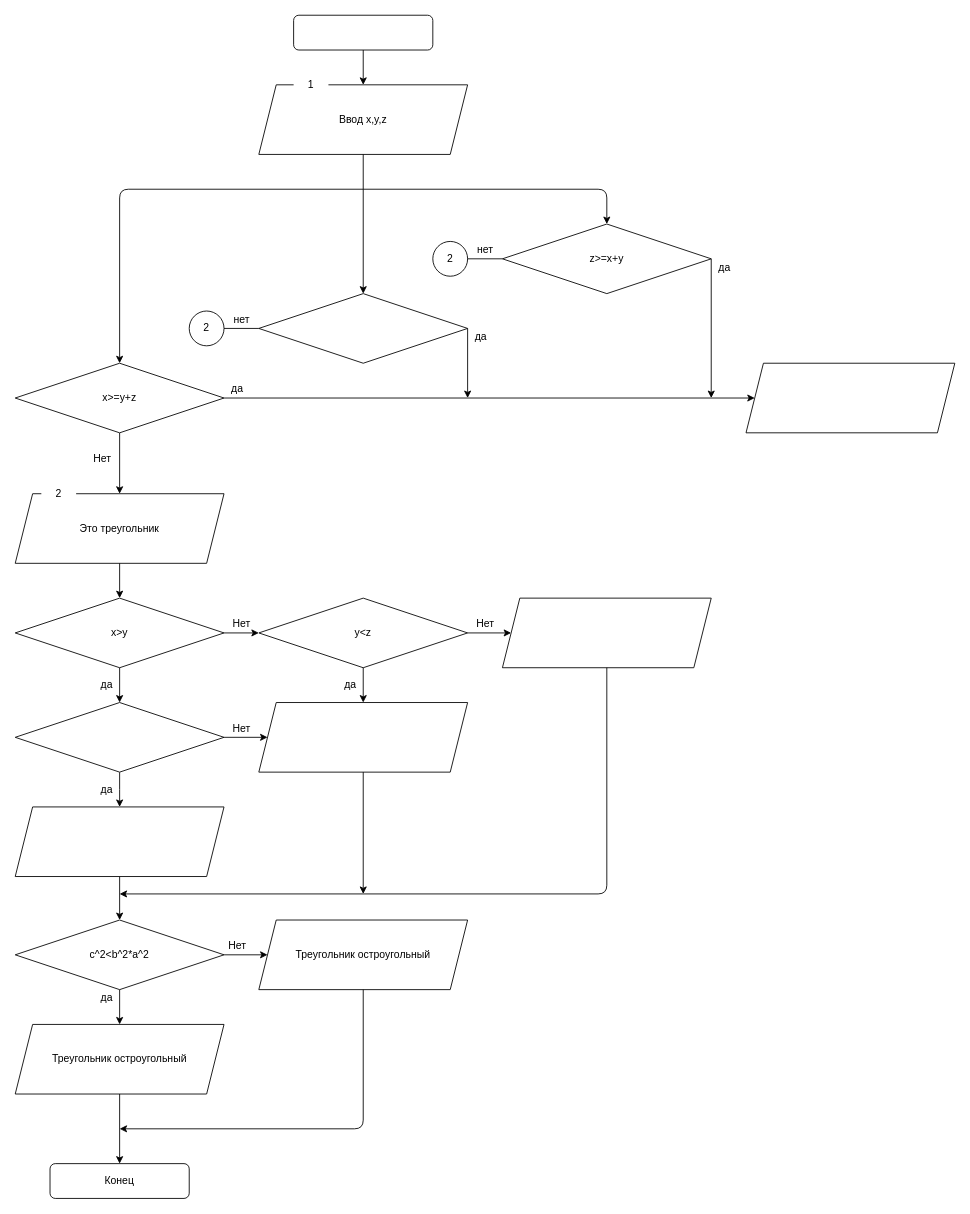
This 970x1214 diagram has some shape labels left out. The shapes that lost their labels are listed below. From the top down, each one's centre as x and y in pixels, then its label:
At [363,32]: "Начало".
At [363,328]: "y>=x+z".
At [850,397]: "Это не треугольник".
At [606,632]: "y=c z=a y=b".
At [119,737]: "x>z".
At [363,737]: "z=c x=a y=b".
At [119,841]: "x=c z=a y=b".
